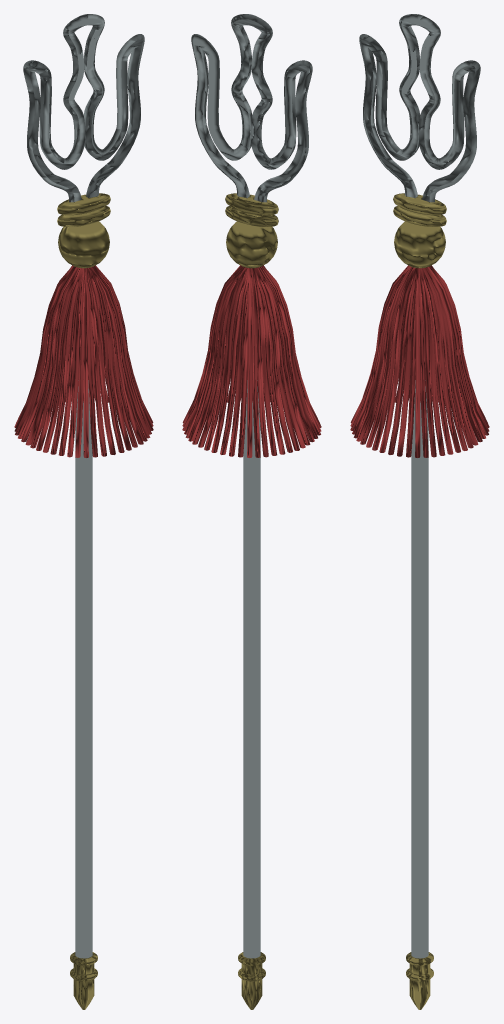
Rendered from objobj22.obj.
3 views of the same model, side by side, from view 1: azimuth 30°, elevation 25°; view 2: azimuth 150°, elevation 25°; view 3: azimuth 330°, elevation 25° (orthographic).
Visible parts, largest first — view 1: Halberd Fringe, Halberd High Blade, Halberd Staff, Halberd Ball, Halberd High Knots, Halberd Low Ferrule; view 2: Halberd Fringe, Halberd High Blade, Halberd Staff, Halberd Ball, Halberd High Knots, Halberd Low Ferrule; view 3: Halberd Fringe, Halberd High Blade, Halberd Staff, Halberd Ball, Halberd High Knots, Halberd Low Ferrule.
Boxes of the visible parts, x1=… form: Halberd Fringe: x1=14, y1=265, x2=153, y2=457; Halberd High Blade: x1=23, y1=14, x2=144, y2=202; Halberd Staff: x1=75, y1=380, x2=92, y2=958; Halberd Ball: x1=58, y1=221, x2=109, y2=268; Halberd High Knots: x1=57, y1=193, x2=110, y2=226; Halberd Low Ferrule: x1=70, y1=952, x2=97, y2=1009; Halberd Fringe: x1=182, y1=265, x2=321, y2=457; Halberd High Blade: x1=191, y1=14, x2=312, y2=202; Halberd Staff: x1=243, y1=380, x2=260, y2=958; Halberd Ball: x1=226, y1=221, x2=277, y2=268; Halberd High Knots: x1=225, y1=193, x2=278, y2=226; Halberd Low Ferrule: x1=238, y1=952, x2=265, y2=1009; Halberd Fringe: x1=350, y1=265, x2=489, y2=457; Halberd High Blade: x1=359, y1=14, x2=480, y2=202; Halberd Staff: x1=411, y1=380, x2=428, y2=958; Halberd Ball: x1=394, y1=221, x2=445, y2=268; Halberd High Knots: x1=393, y1=193, x2=446, y2=226; Halberd Low Ferrule: x1=406, y1=952, x2=433, y2=1009.
Bounding box in the file's own units: 0.2429 × 1.9 × 0.2416.
